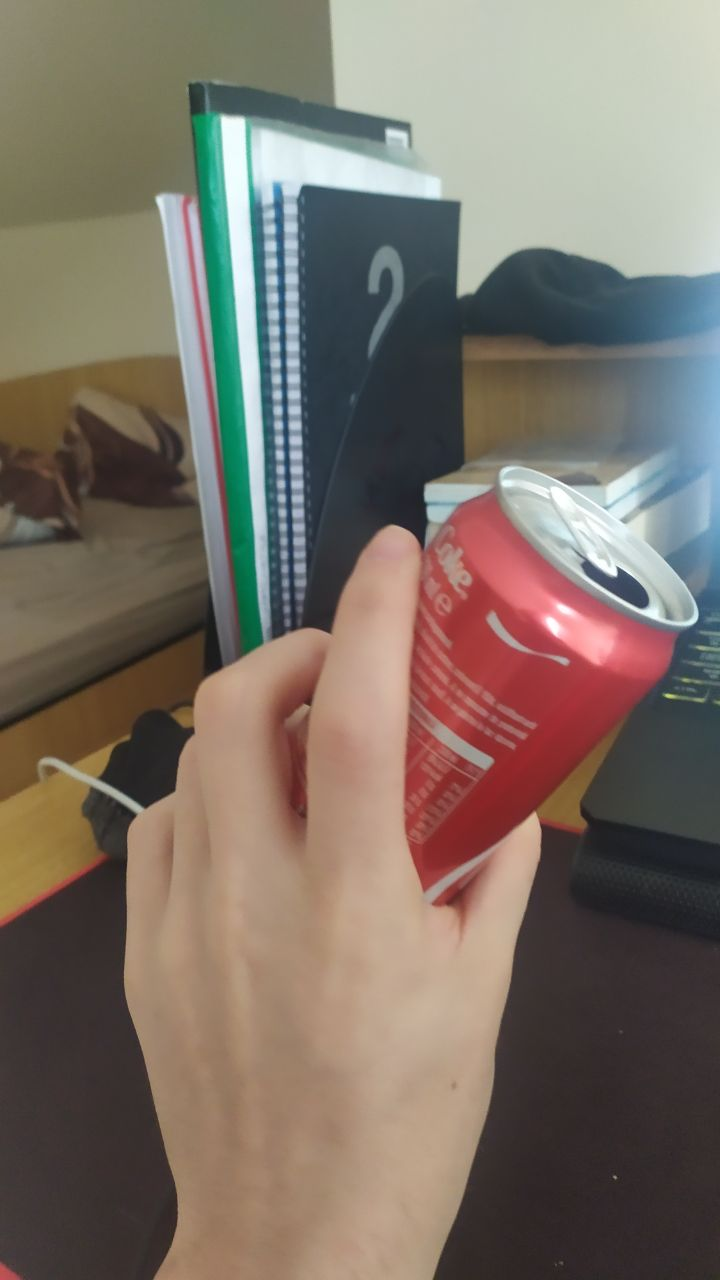Can: (240, 463, 697, 935)
